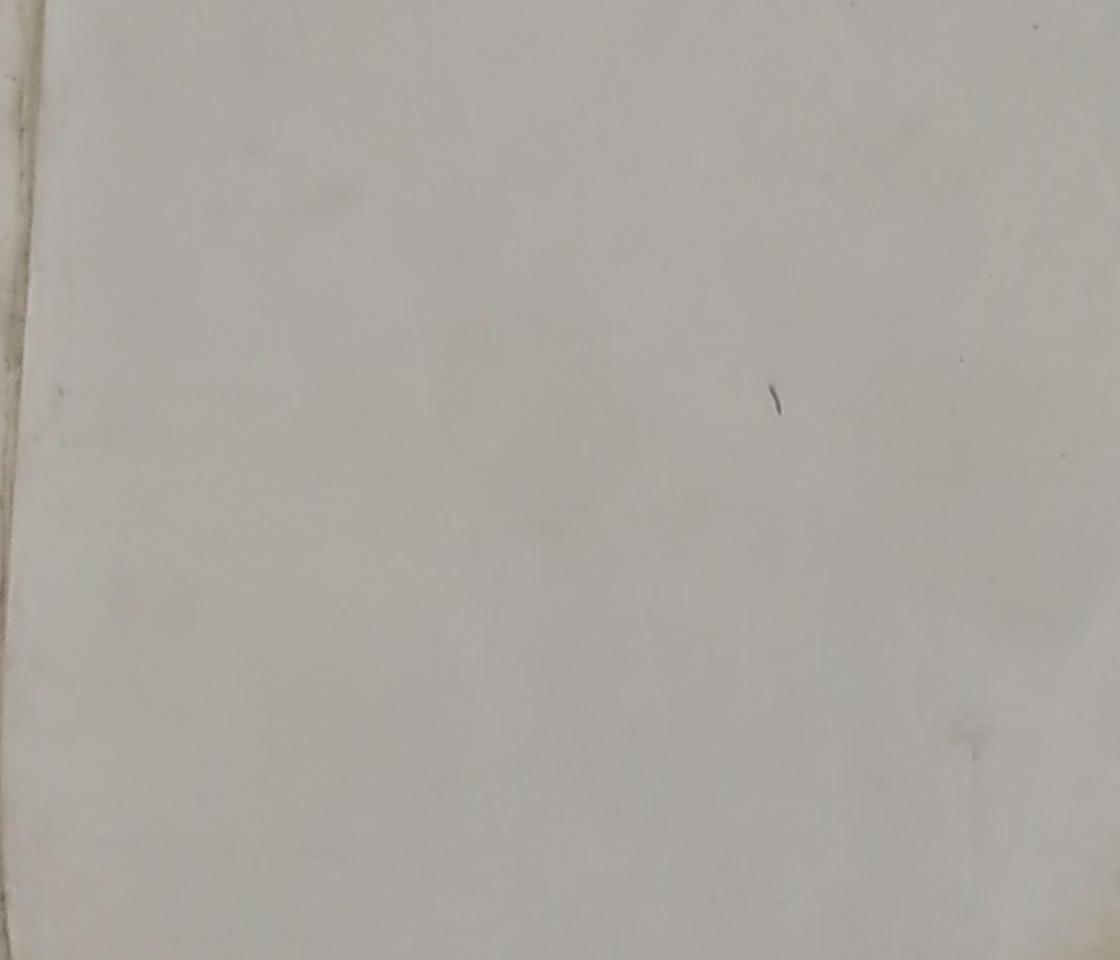scratch: (755, 382, 793, 424)
